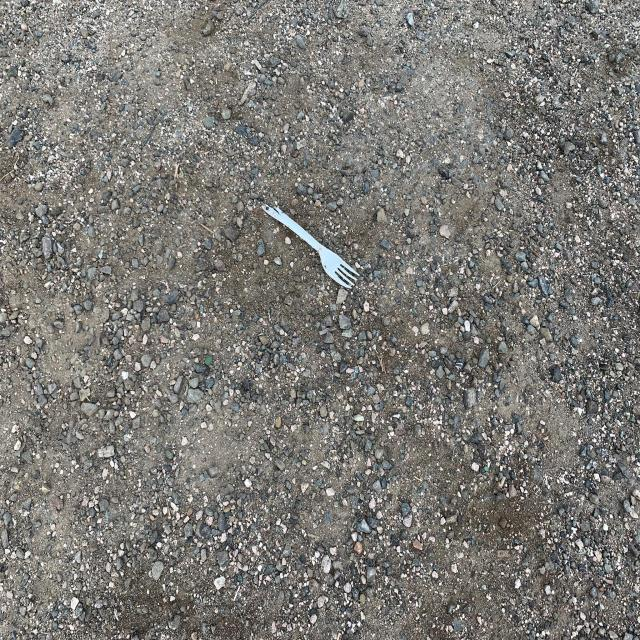litter: (259, 205, 359, 290)
